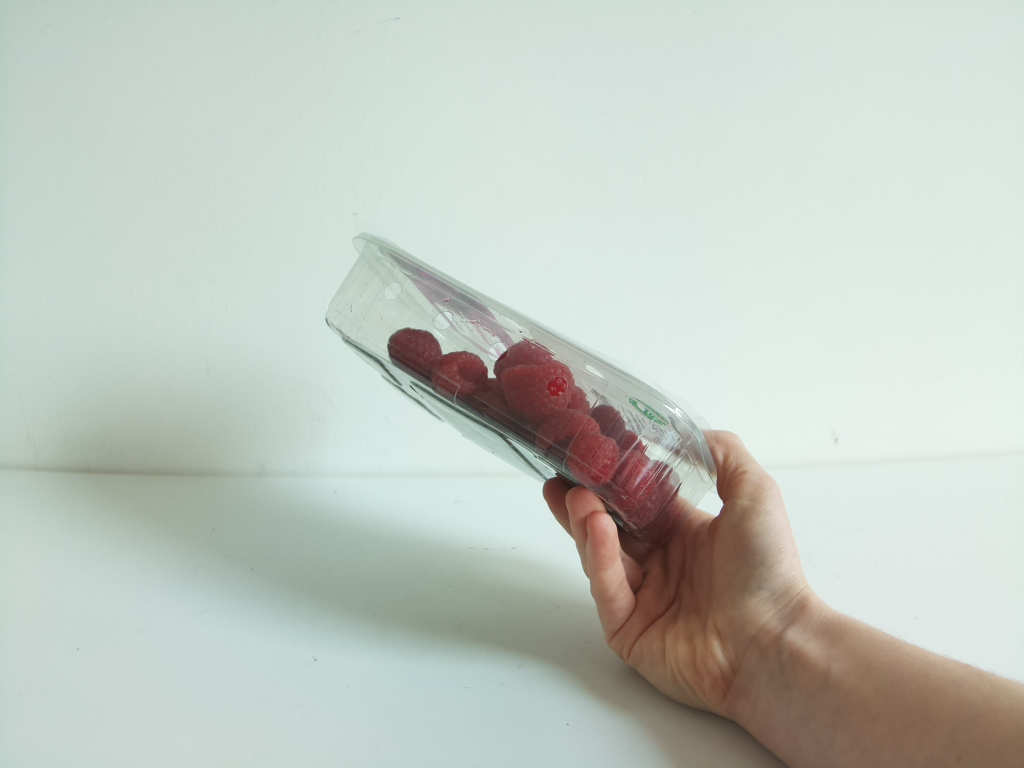soft-fruit: (317, 231, 724, 556)
